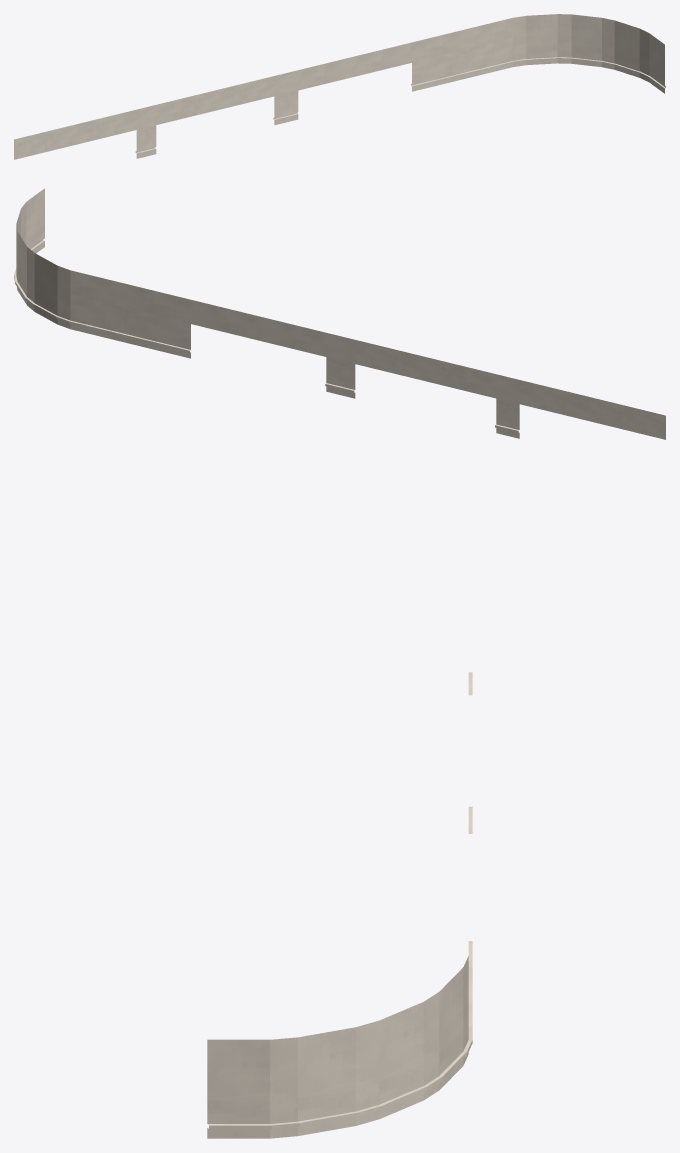
The model's file is facade 1 level classroom.fbx.
3 renders of one model, top to bottom at view 1: azimuth 30°, elevation 25°; view 2: azimuth 150°, elevation 25°; view 3: azimuth 270°, elevation 25°, orthographic. The views are drawn at different scales.
Parts seen in each view (by area): view 1: facade_1_level; view 2: facade_1_level; view 3: facade_1_level.
Part boxes in pixels (bbox=[...]): facade_1_level: bbox=[14, 14, 665, 159]; facade_1_level: bbox=[14, 188, 665, 439]; facade_1_level: bbox=[207, 672, 472, 1138].
Bounding box in the file's own units: 7671 × 617 × 1500.
